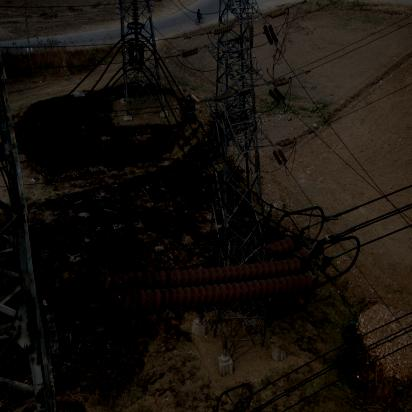insulator: (89, 224, 319, 348)
